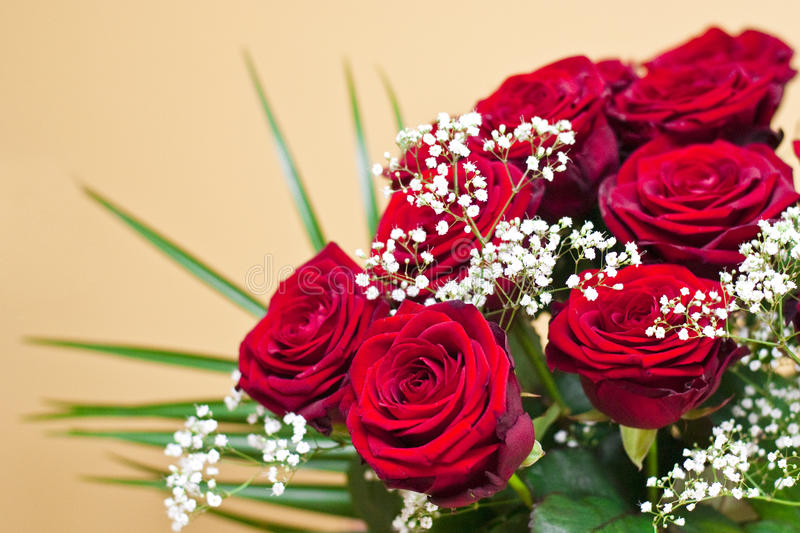RedRose: (339, 305, 548, 501), (543, 260, 742, 433), (230, 240, 389, 424), (366, 124, 526, 299), (604, 123, 792, 255), (605, 13, 791, 140), (462, 43, 619, 183)
